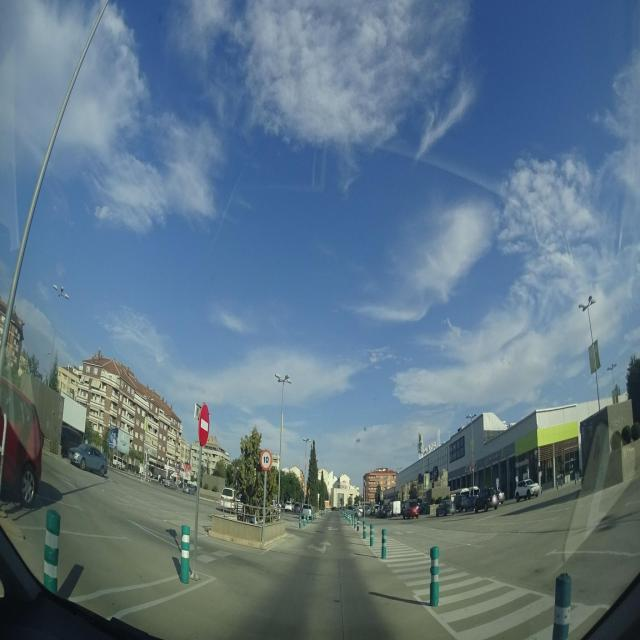car: (70, 443, 108, 476), (473, 487, 499, 512), (515, 480, 541, 501), (222, 484, 236, 512), (402, 498, 420, 519), (436, 498, 454, 517), (496, 488, 505, 506)
